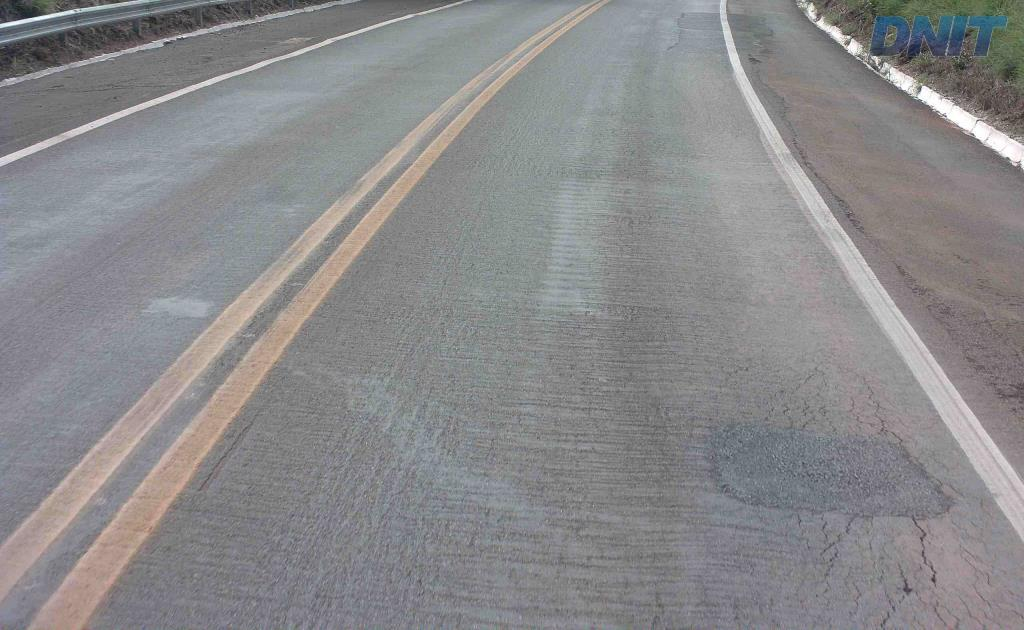crack: (895, 507, 930, 565), (777, 507, 845, 527), (819, 520, 842, 579)
